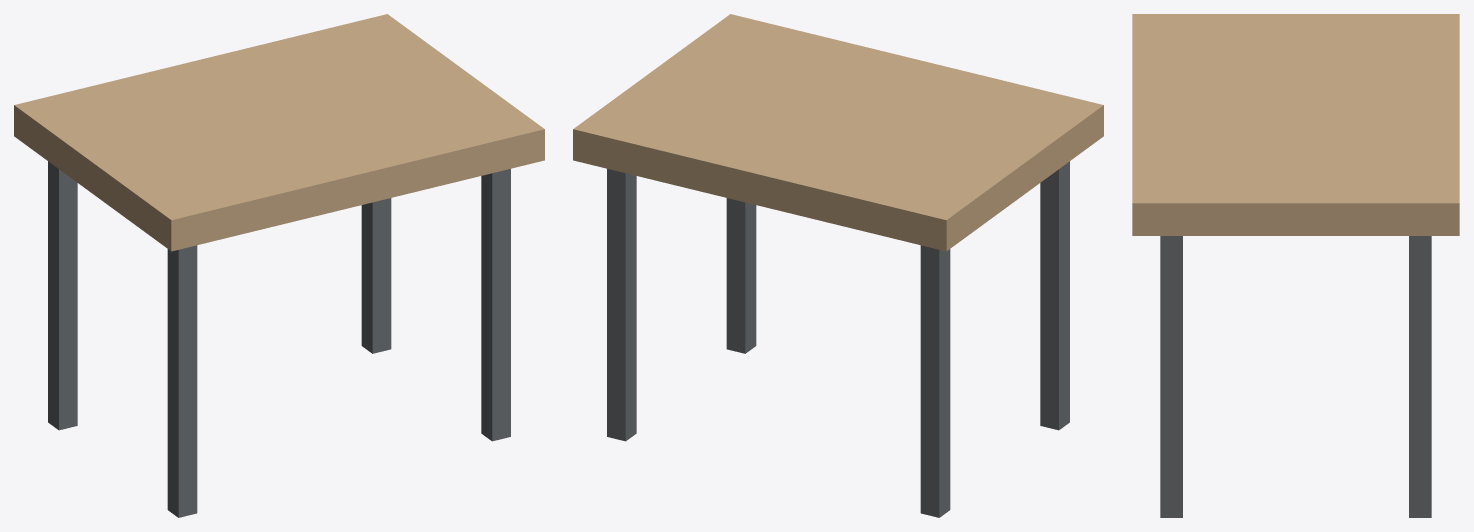
The model's file is table_03.glb.
3 renders of one model, left to right at view 1: azimuth 30°, elevation 25°; view 2: azimuth 150°, elevation 25°; view 3: azimuth 270°, elevation 25°, orthographic. The views are drawn at different scales.
Parts seen in each view (by area): view 1: top, leg-0.420.2774, leg0.420.2774, leg-0.42-0.2774, leg0.42-0.2774; view 2: top, leg-0.42-0.2774, leg0.42-0.2774, leg-0.420.2774, leg0.420.2774; view 3: top, leg0.42-0.2774, leg0.420.2774.
Part boxes in pixels (x1=…): top: x1=14, y1=14, x2=544, y2=251; leg-0.420.2774: x1=167, y1=245, x2=197, y2=517; leg0.420.2774: x1=481, y1=169, x2=510, y2=441; leg-0.42-0.2774: x1=48, y1=161, x2=77, y2=430; leg0.42-0.2774: x1=361, y1=198, x2=391, y2=353; top: x1=573, y1=14, x2=1103, y2=251; leg-0.42-0.2774: x1=920, y1=245, x2=950, y2=517; leg0.42-0.2774: x1=607, y1=169, x2=636, y2=441; leg-0.420.2774: x1=1040, y1=161, x2=1069, y2=430; leg0.420.2774: x1=726, y1=198, x2=756, y2=353; top: x1=1132, y1=14, x2=1459, y2=235; leg0.42-0.2774: x1=1409, y1=236, x2=1431, y2=517; leg0.420.2774: x1=1160, y1=236, x2=1182, y2=517.
Size of the model in its own units: 1 by 0.8 by 0.73.
